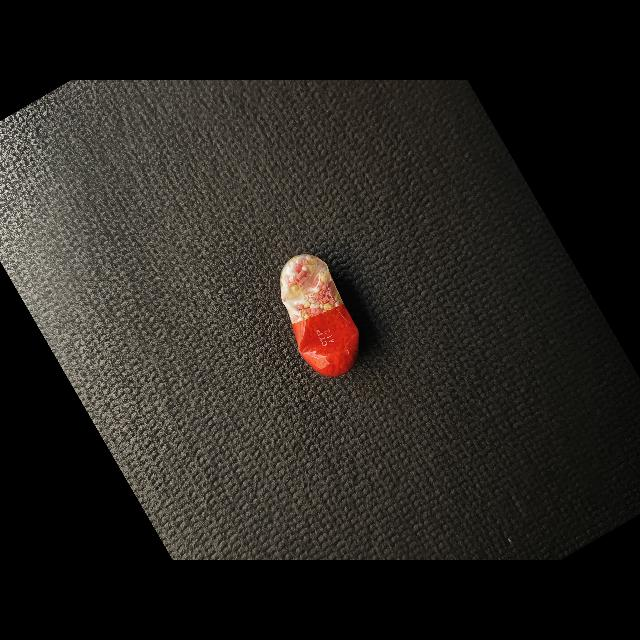Defective Capsule: (280, 254, 359, 377)
